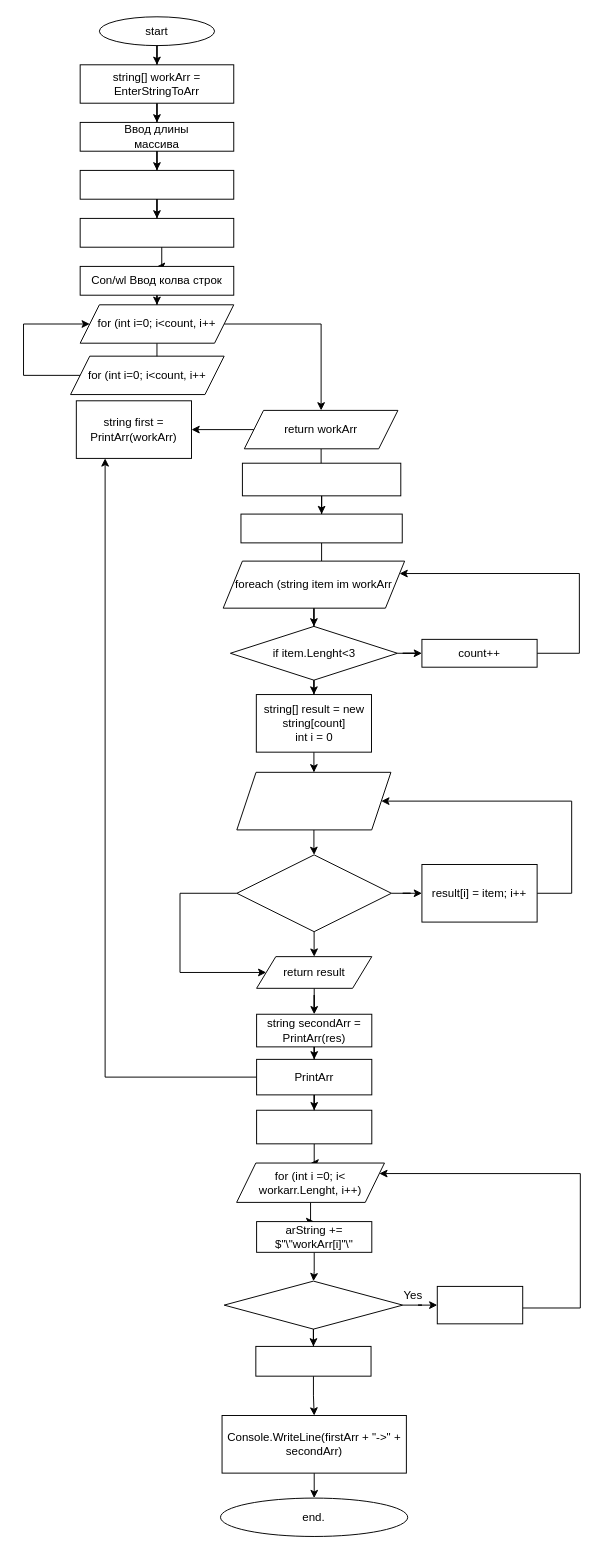
Some shapes in this 605 by 1553 pixel diagram are drawn without their labels. The shapes that lost their labels are listed below. From the top down, each one's box as (x1, y1, x2, y2) in pixels, then its label:
(79, 169, 234, 199): Вывод кол-во строк
(79, 217, 234, 247): string[] workArr = new string[count]
(241, 462, 401, 496): CreatingArrStringLessThan3
(240, 513, 402, 543): int count = 0
(236, 771, 391, 830): foreach (string item in workArr)
(236, 854, 391, 932): if (item.Lenght <=3)
(256, 1109, 372, 1144): string arString = "["
(223, 1280, 403, 1329): if (i < workArr.lenght -1)
(436, 1285, 523, 1324): arString += ","
(255, 1345, 371, 1376): arString += "]"
